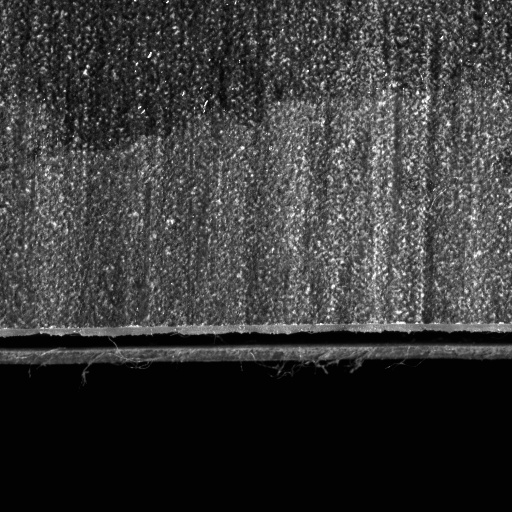kaijiao: (0, 322, 511, 364)
